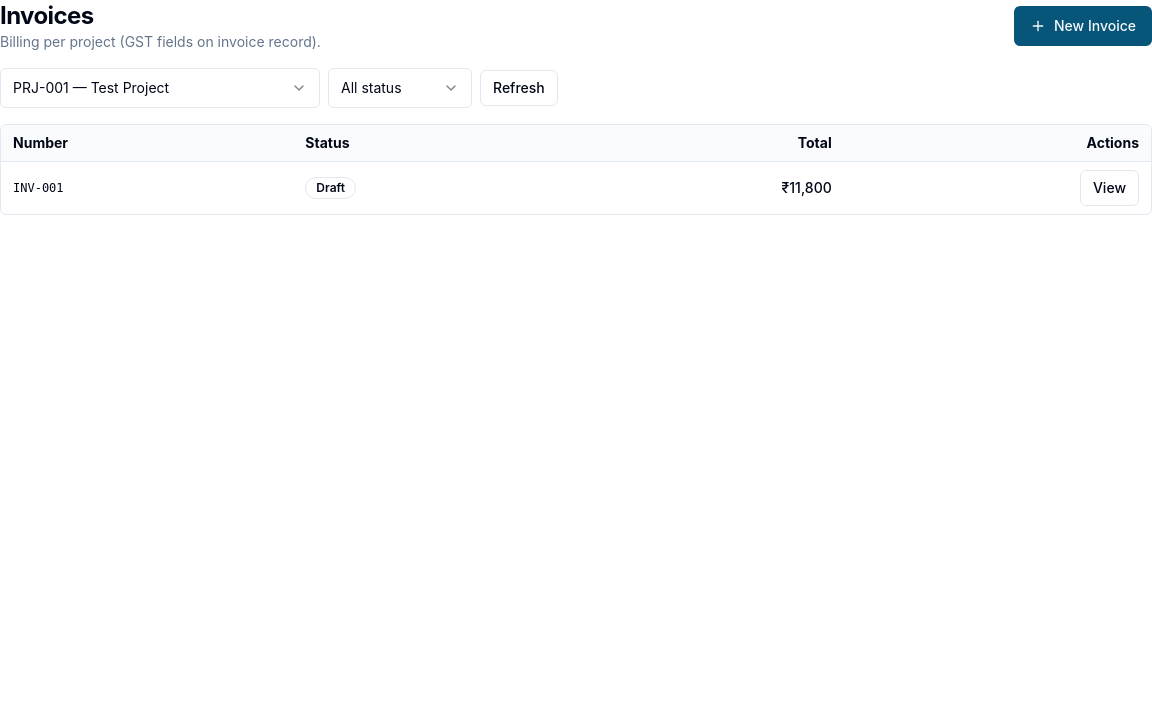
it: InvoicesPage › shows invoice detail loading state
Expected: the text "INV-001" is shown, x1=1 y1=162 x2=293 y2=214
Step 1. Click the button "View" → (1109, 188), box x1=1080 y1=170 x2=1139 y2=206
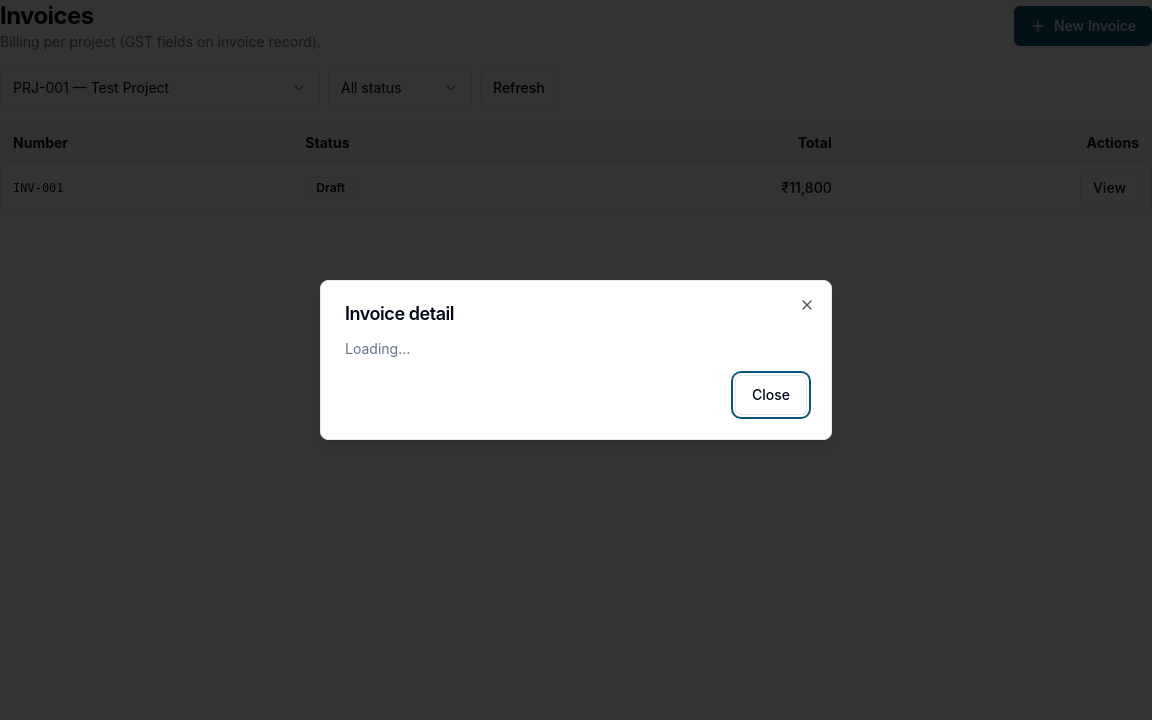
Result: the text "Loading…" is shown at x1=345 y1=340 x2=410 y2=357
